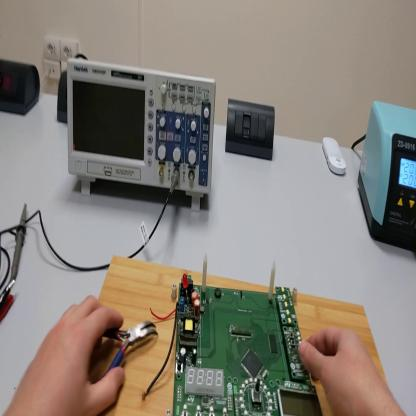hand: (12, 295, 126, 416), (299, 325, 392, 416)
low voltage board: (142, 255, 322, 416)
oscilloscope: (67, 59, 216, 212)
oscilloscope probe tip: (11, 203, 29, 281)
pliers: (105, 324, 160, 377)
socket: (2, 59, 40, 117), (57, 69, 67, 122)
welder station: (357, 98, 415, 253)
working area: (84, 257, 389, 412)
